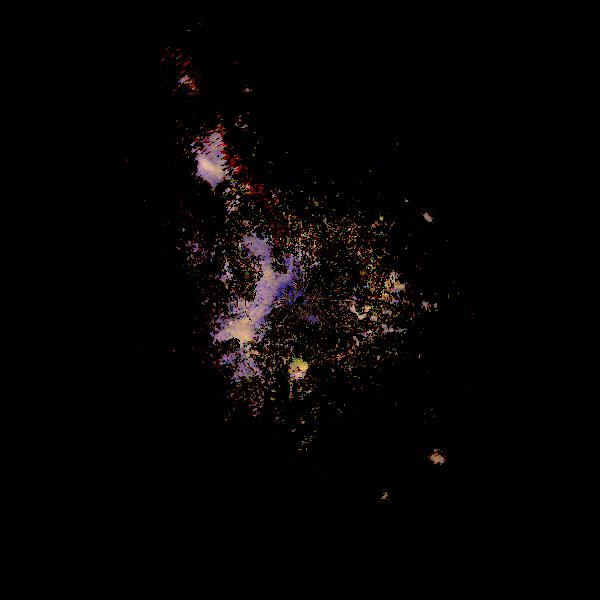roost: (425, 445, 464, 484), (286, 358, 313, 385), (420, 206, 447, 233)
